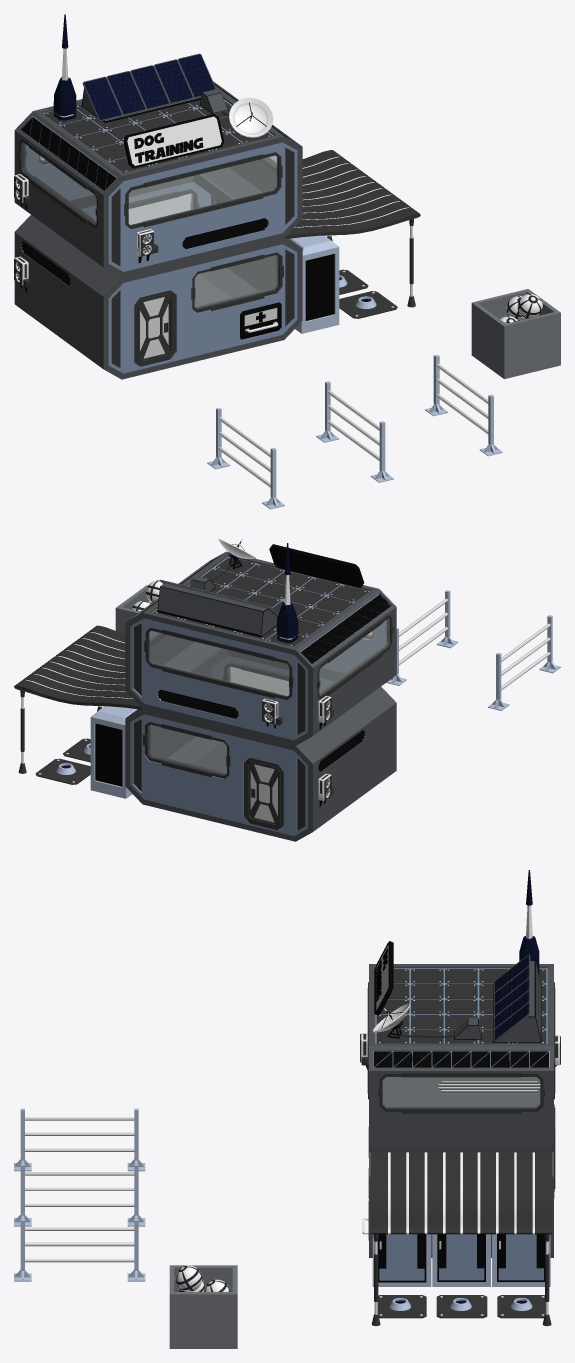
Rendered from Training level 2 Legit.fbx.
3 renders of one model, top to bottom at view 1: azimuth 30°, elevation 25°; view 2: azimuth 150°, elevation 25°; view 3: azimuth 270°, elevation 25°, orthographic. The views are drawn at different scales.
Visible parts, largest first — view 1: Cube.003, Cube.014, Cube.002; view 2: Cube.003, Cube.014, Cube.001; view 3: Cube.003, Cube.014.
Boxes of the visible parts, bbox=[...] form: Cube.003: bbox=[14, 14, 420, 379]; Cube.014: bbox=[207, 289, 560, 509]; Cube.002: bbox=[134, 290, 175, 366]; Cube.003: bbox=[14, 538, 396, 841]; Cube.014: bbox=[115, 580, 560, 710]; Cube.001: bbox=[244, 757, 283, 830]; Cube.003: bbox=[360, 870, 560, 1326]; Cube.014: bbox=[14, 1108, 237, 1348].
Bounding box in the file's own units: 536 × 423 × 663.
